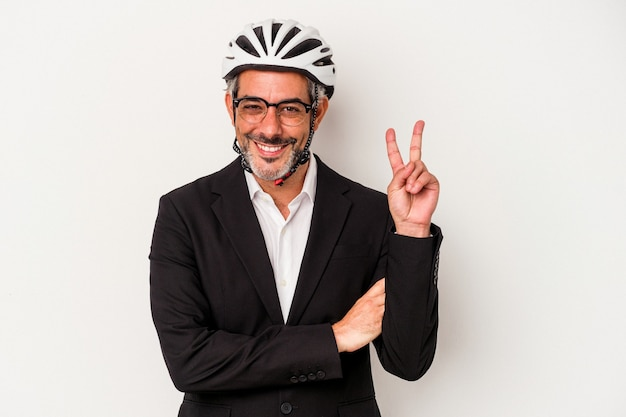helmet: (222, 19, 337, 181)
